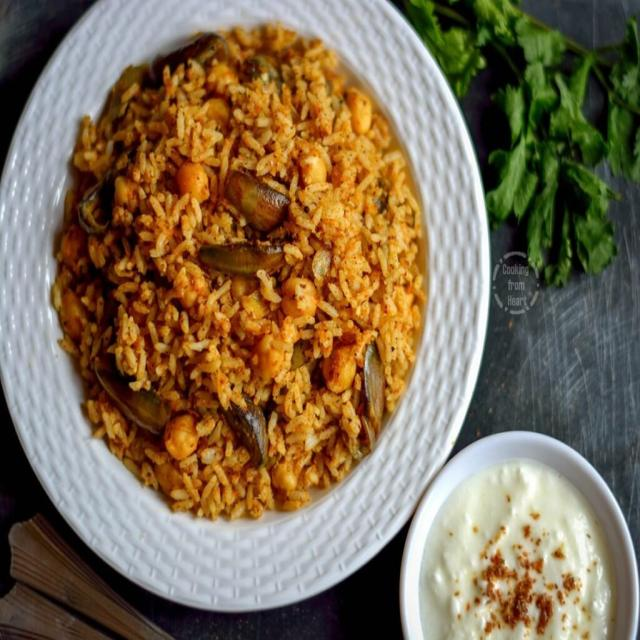vangi bath: (41, 14, 437, 534)
